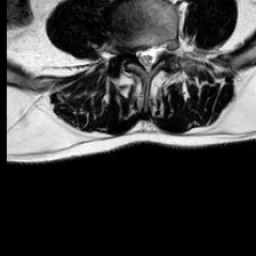CCS_normal: (143, 36, 151, 82)
LFS_normal: (159, 31, 169, 65)
LLS_normal: (151, 38, 159, 73)
RFS_severe_stenosis: (126, 34, 135, 63)
RLS_normal: (135, 38, 143, 72)
